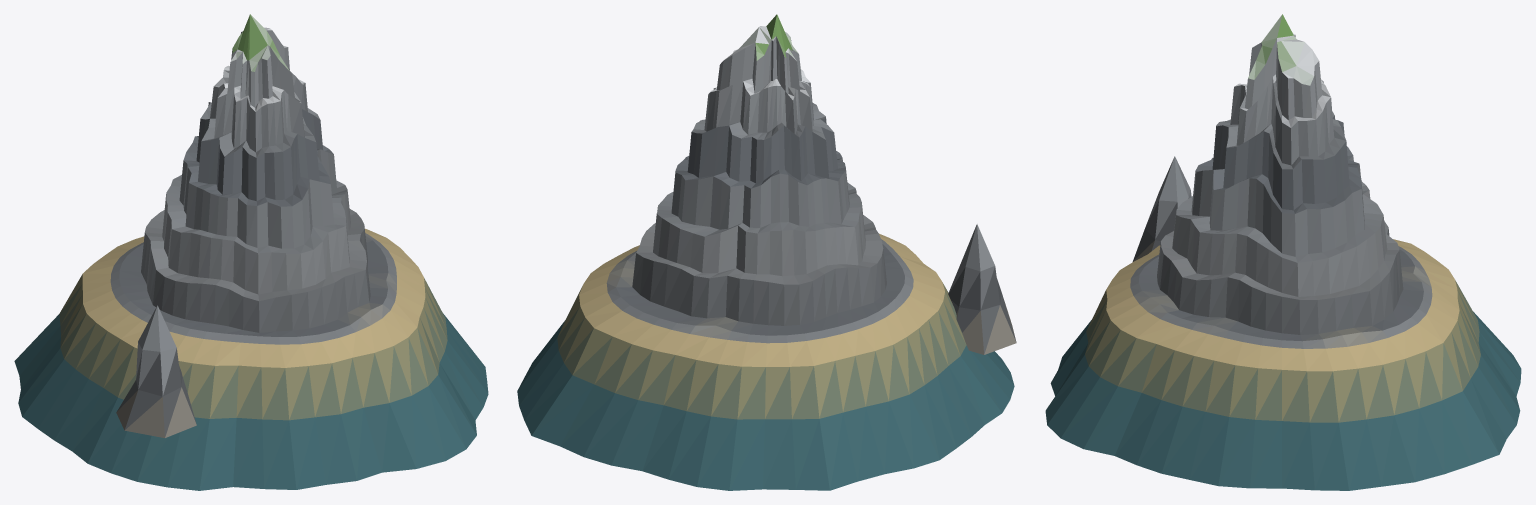
Rendered from islet_01.glb.
The picture shows the model from 3 angles, left to right: view 1: azimuth 30°, elevation 25°; view 2: azimuth 150°, elevation 25°; view 3: azimuth 270°, elevation 25°; orthographic projection.
Visible parts, largest first — view 1: islet_01; view 2: islet_01; view 3: islet_01.
Boxes of the visible parts, x1,y1,x2,y2 form: islet_01: (14,14,488,490); islet_01: (517,14,1016,490); islet_01: (1045,14,1521,490).
Size of the model in its own units: 21.77 by 19.74 by 22.17.
